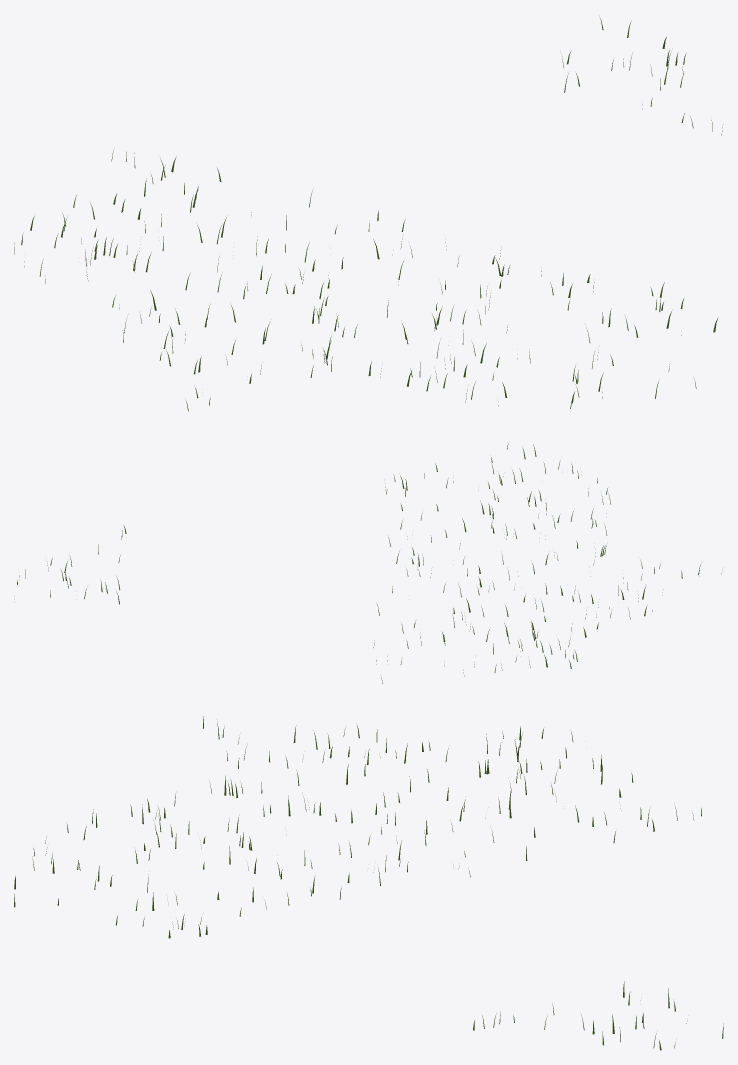
3 renders of one model, top to bottom at view 1: azimuth 30°, elevation 25°; view 2: azimuth 150°, elevation 25°; view 3: azimuth 270°, elevation 25°, orthographic. The views are drawn at different scales.
Parts seen in each view (by area): view 1: GrassPatch; view 2: GrassPatch; view 3: GrassPatch.
Part boxes in pixels (x1,y1,x2,y2): GrassPatch: (14, 17, 722, 411); GrassPatch: (14, 443, 722, 683); GrassPatch: (14, 716, 723, 1050).
Bounding box in the file's own units: 16.57 × 0.4902 × 15.33.
